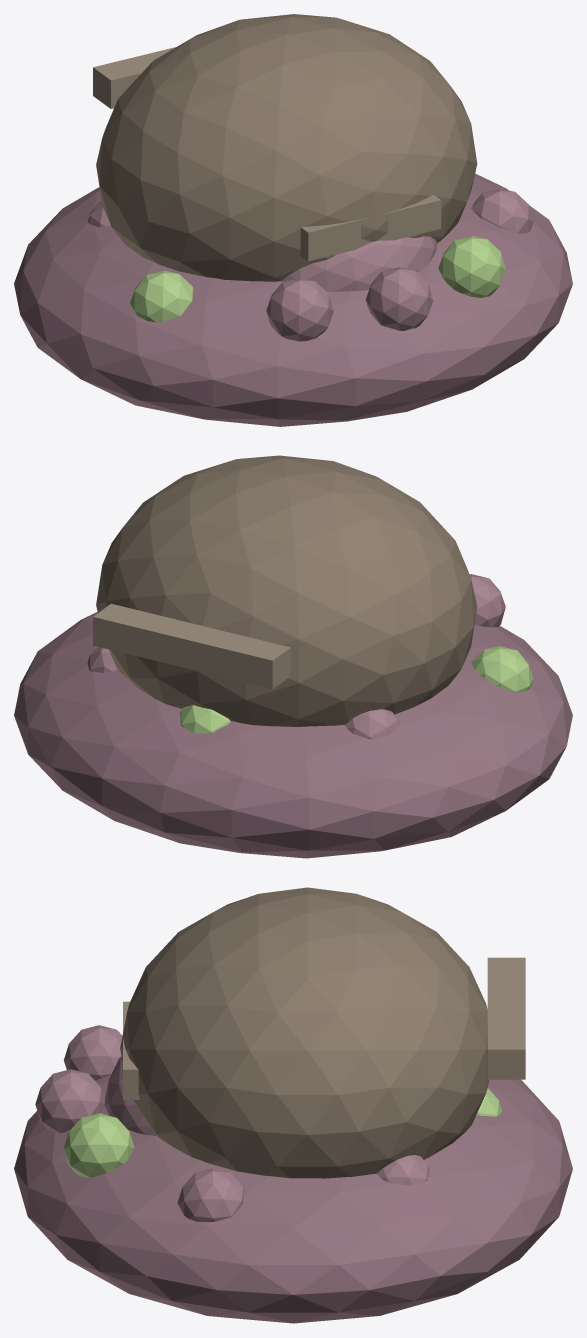
The model's file is zglengo_brood_hive_expansion.glb.
3 views of the same model, one above another, from view 1: azimuth 30°, elevation 25°; view 2: azimuth 150°, elevation 25°; view 3: azimuth 270°, elevation 25° (orthographic). The views are drawn at different scales.
Parts seen in each view (by area): view 1: main_dome, base_hive, inner_body, ridge_3, egg_sac_1, egg_sac_2, egg_sac_3, egg_sac_0, ridge_0, egg_sac_4; view 2: base_hive, main_dome, ridge_0, egg_sac_0, egg_sac_1, egg_sac_5, egg_sac_6, egg_sac_7; view 3: main_dome, base_hive, ridge_0, egg_sac_3, egg_sac_2, egg_sac_4, egg_sac_1, inner_body, egg_sac_7, ridge_3.
Boxes of the visible parts, x1=… form: main_dome: x1=96, y1=14, x2=477, y2=281; base_hive: x1=14, y1=173, x2=572, y2=426; inner_body: x1=280, y1=236, x2=437, y2=291; ridge_3: x1=300, y1=195, x2=441, y2=261; egg_sac_1: x1=266, y1=278, x2=333, y2=341; egg_sac_2: x1=365, y1=267, x2=433, y2=330; egg_sac_3: x1=438, y1=236, x2=505, y2=297; egg_sac_0: x1=130, y1=270, x2=193, y2=322; ridge_0: x1=93, y1=47, x2=175, y2=108; egg_sac_4: x1=471, y1=188, x2=533, y2=233; base_hive: x1=14, y1=612, x2=572, y2=858; main_dome: x1=96, y1=455, x2=477, y2=726; ridge_0: x1=93, y1=603, x2=290, y2=689; egg_sac_0: x1=471, y1=646, x2=533, y2=692; egg_sac_1: x1=469, y1=574, x2=505, y2=627; egg_sac_5: x1=345, y1=709, x2=398, y2=739; egg_sac_6: x1=180, y1=705, x2=230, y2=733; egg_sac_7: x1=87, y1=647, x2=117, y2=672; main_dome: x1=120, y1=887, x2=489, y2=1178; base_hive: x1=14, y1=1075, x2=572, y2=1323; ridge_0: x1=487, y1=957, x2=525, y2=1079; egg_sac_3: x1=64, y1=1113, x2=134, y2=1177; egg_sac_2: x1=35, y1=1069, x2=104, y2=1133; egg_sac_4: x1=177, y1=1168, x2=244, y2=1222; egg_sac_1: x1=63, y1=1025, x2=122, y2=1080; inner_body: x1=104, y1=1056, x2=156, y2=1136; egg_sac_7: x1=376, y1=1155, x2=429, y2=1185; ridge_3: x1=123, y1=1001, x2=139, y2=1099.
Size of the model in its own units: 2.52 by 1.61 by 2.36.
